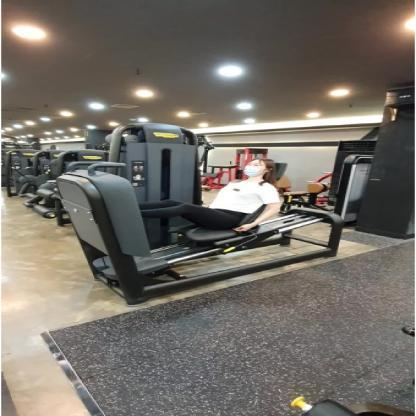leg press: (33, 118, 361, 310)
